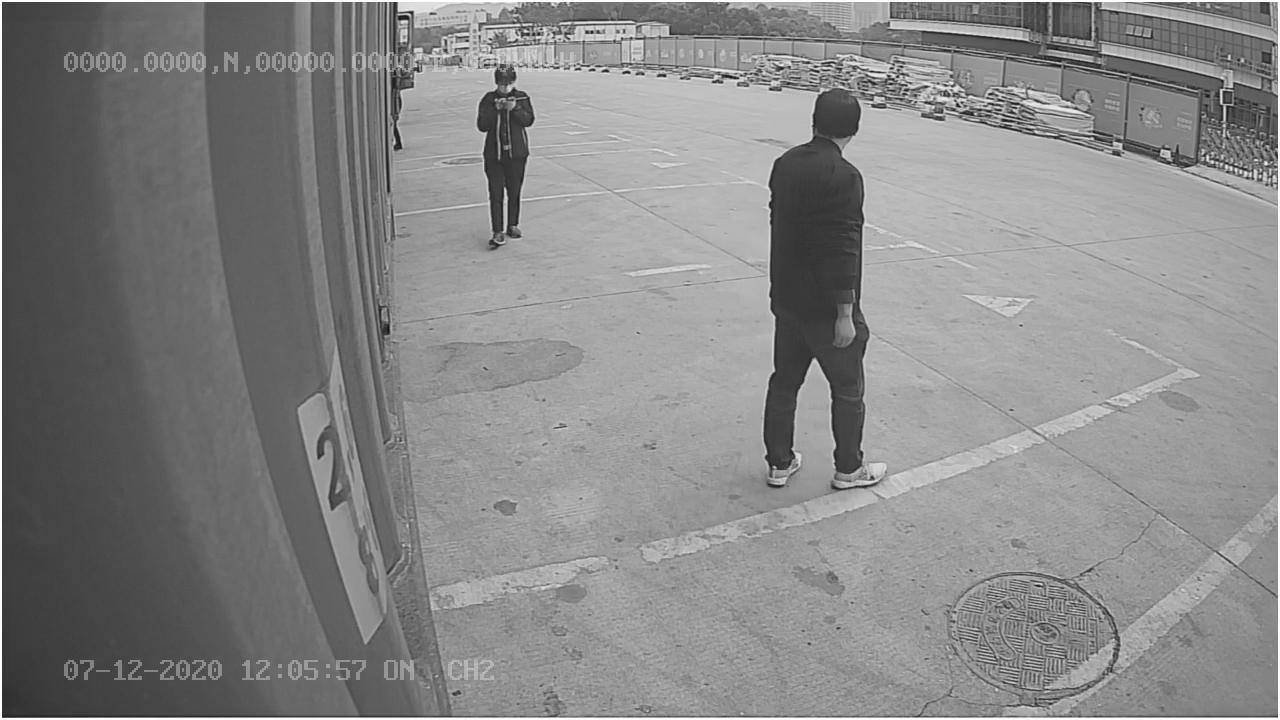person: (754, 89, 886, 495)
